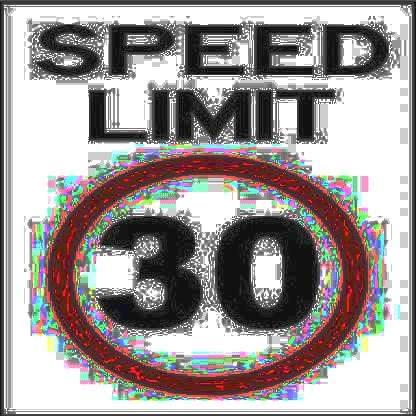Speed Limit -30-: (40, 146, 377, 406)
